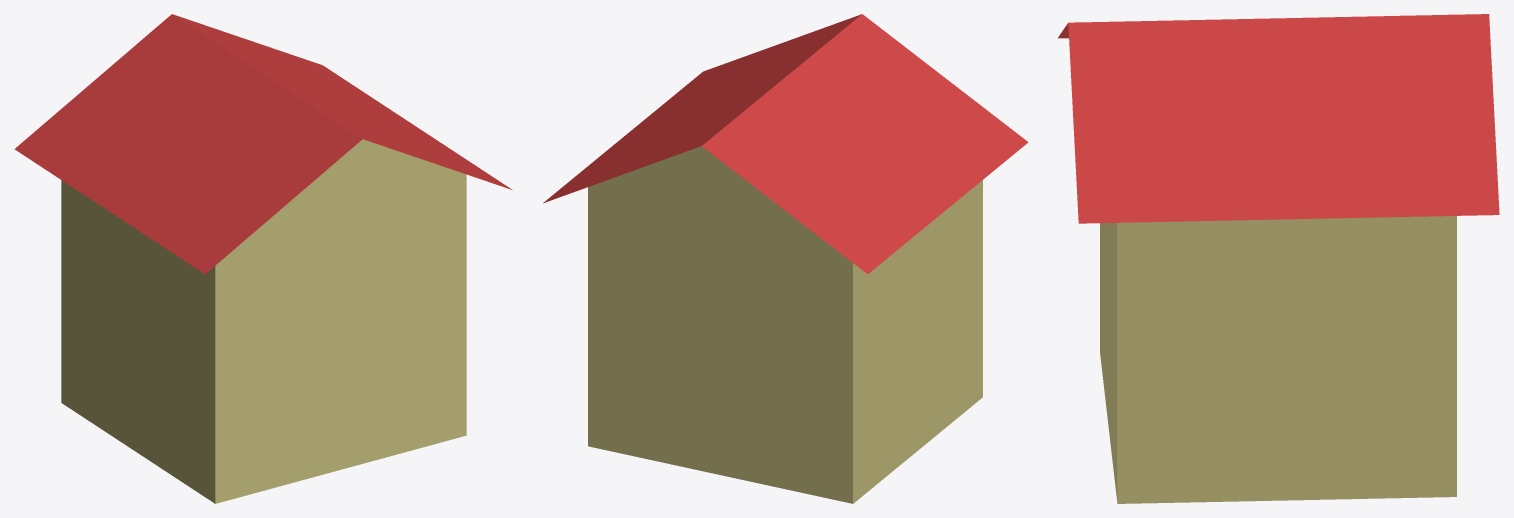
3 views of the same model, side by side, from view 1: azimuth 30°, elevation 25°; view 2: azimuth 150°, elevation 25°; view 3: azimuth 270°, elevation 25° (orthographic). The views are drawn at different scales.
Bounding box in the file's own units: 11.25 × 10.85 × 11.07.
